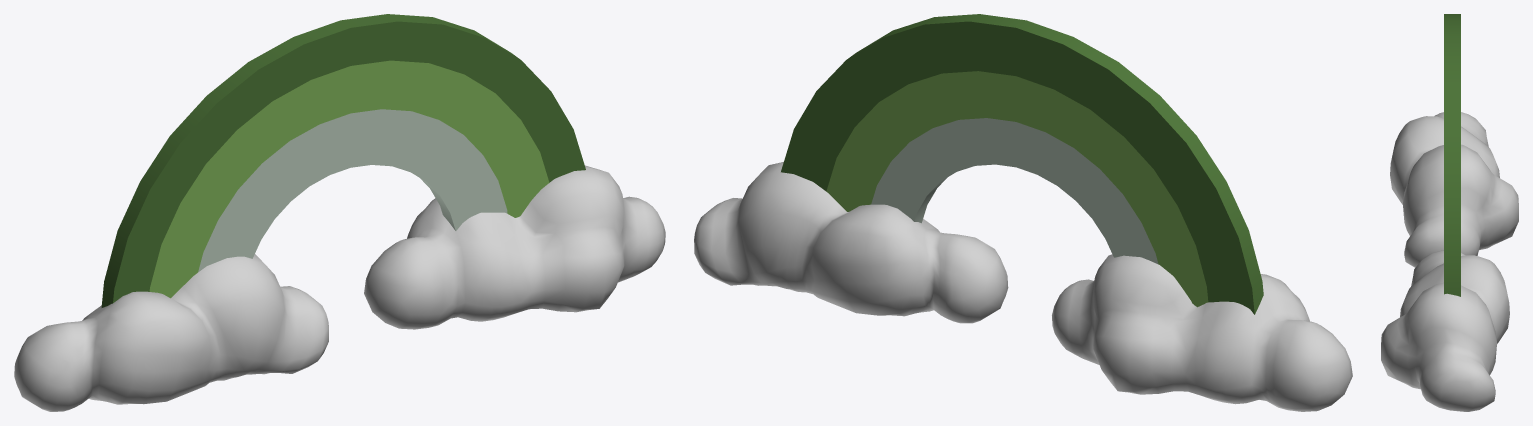
File: Rainbow_03.fbx
3 renders of one model, left to right at view 1: azimuth 30°, elevation 25°; view 2: azimuth 150°, elevation 25°; view 3: azimuth 270°, elevation 25°, orthographic. The views are drawn at different scales.
Visible parts, largest first — view 1: Rainbow_03; view 2: Rainbow_03; view 3: Rainbow_03.
Part boxes in pixels (<box>): Rainbow_03: <box>14,14,665,411</box>; Rainbow_03: <box>694,14,1352,411</box>; Rainbow_03: <box>1381,14,1518,411</box>.
Size of the model in its own units: 0.9093 by 0.4289 by 0.2056.
